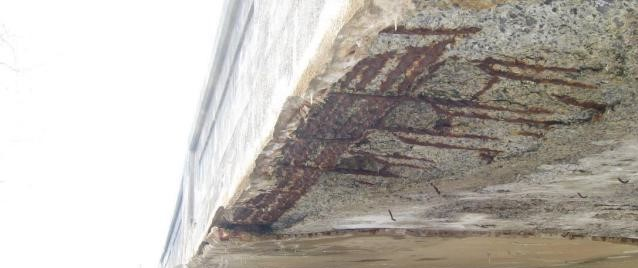Exposed reinforcement: (251, 37, 455, 226), (232, 49, 399, 226), (327, 92, 555, 115), (472, 63, 598, 91), (368, 125, 500, 142), (468, 57, 581, 74), (398, 135, 504, 153), (278, 163, 402, 178), (376, 23, 482, 37), (550, 92, 604, 113), (347, 149, 432, 162), (430, 103, 491, 120), (369, 156, 421, 170), (499, 116, 563, 125), (516, 130, 544, 139), (429, 182, 441, 196), (386, 208, 397, 222), (616, 176, 629, 185), (576, 192, 588, 199)
Spalling: (209, 1, 638, 249)
